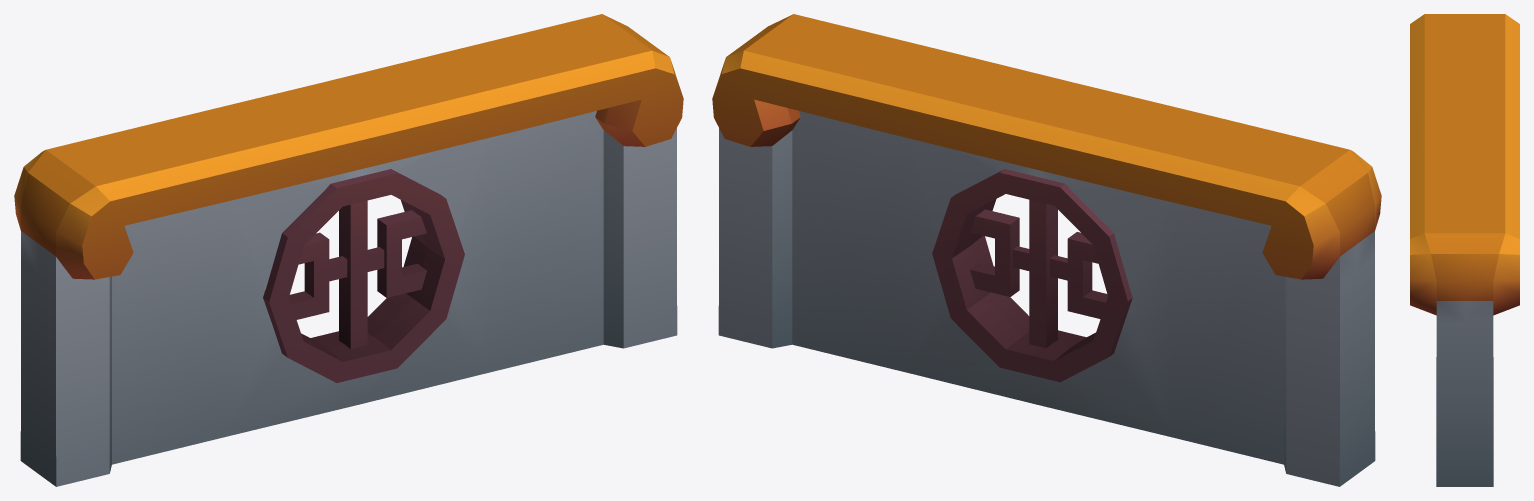
Rendered from stonewall_2.glb.
The picture shows the model from 3 angles, left to right: view 1: azimuth 30°, elevation 25°; view 2: azimuth 150°, elevation 25°; view 3: azimuth 270°, elevation 25°; orthographic projection. The views are drawn at different scales.
Visible parts, largest first — view 1: stonewall_2; view 2: stonewall_2; view 3: stonewall_2.
Boxes of the visible parts, bbox=[...] form: stonewall_2: bbox=[14, 14, 683, 486]; stonewall_2: bbox=[712, 14, 1381, 486]; stonewall_2: bbox=[1410, 14, 1519, 486].
Size of the model in its own units: 3.31 by 1.52 by 0.6268.
Materials: 1 (1 with a texture image).
